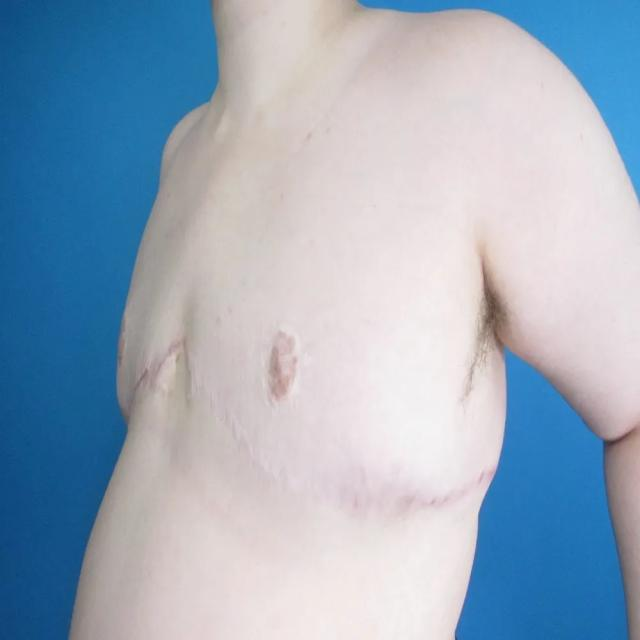Seno herido: (186, 149, 512, 555), (107, 149, 180, 449)
